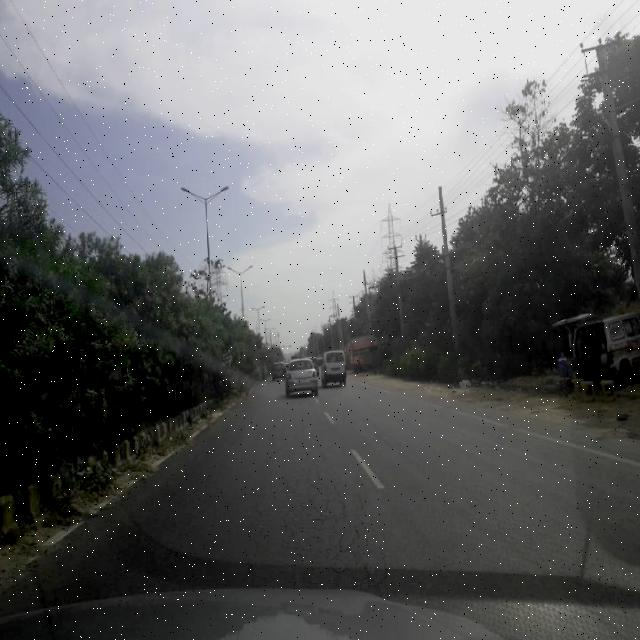D20: (120, 419, 404, 590)
